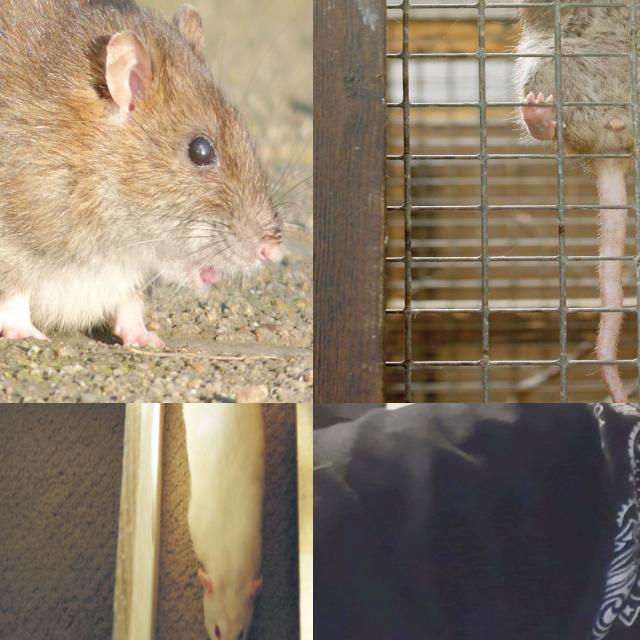rat: (0, 0, 285, 334), (498, 0, 640, 147), (184, 403, 269, 640)
